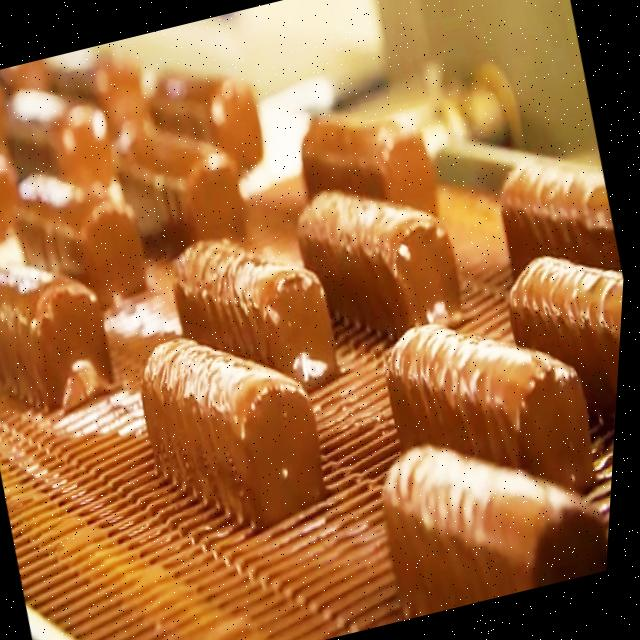Choco: (370, 284, 618, 530), (124, 302, 351, 551), (367, 400, 621, 615), (158, 206, 357, 417), (284, 158, 480, 355), (489, 236, 629, 449), (0, 148, 159, 318), (103, 100, 264, 266), (287, 86, 451, 242), (0, 234, 132, 424), (135, 42, 283, 196), (489, 140, 630, 290), (0, 73, 124, 207)
